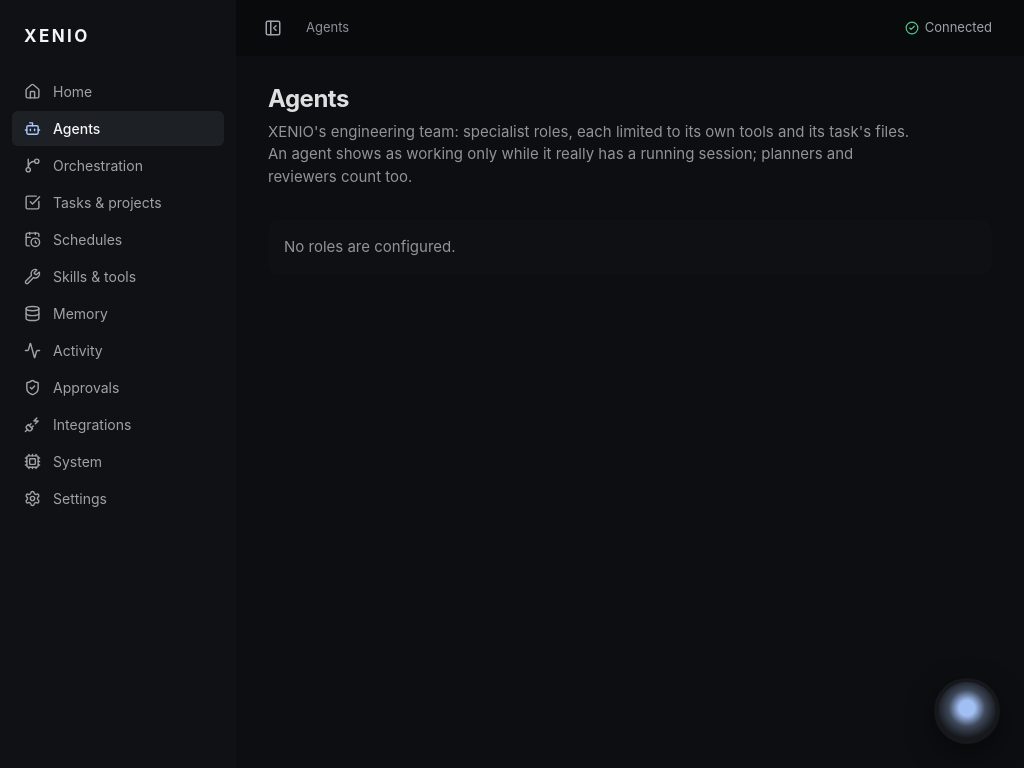
Scenario: accessibility › opens the assistant from the orb, closes on Escape and gives focus back
Click the button named "Open XENIO" at (967, 711), box [934,678,1000,744]
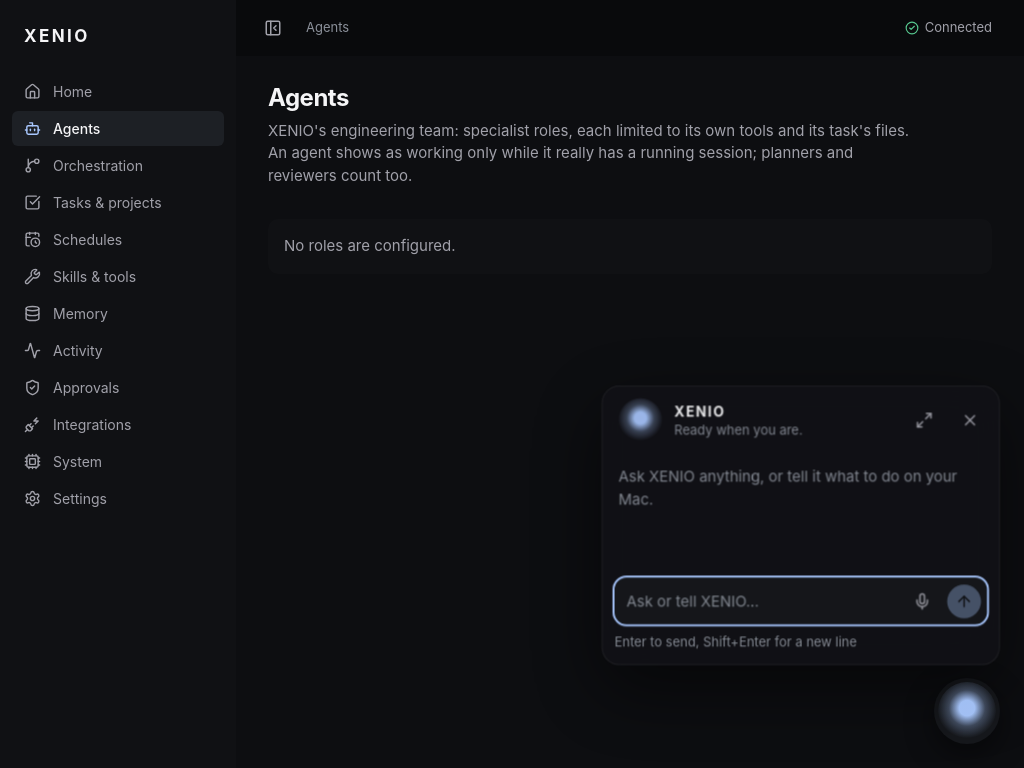
Press Escape
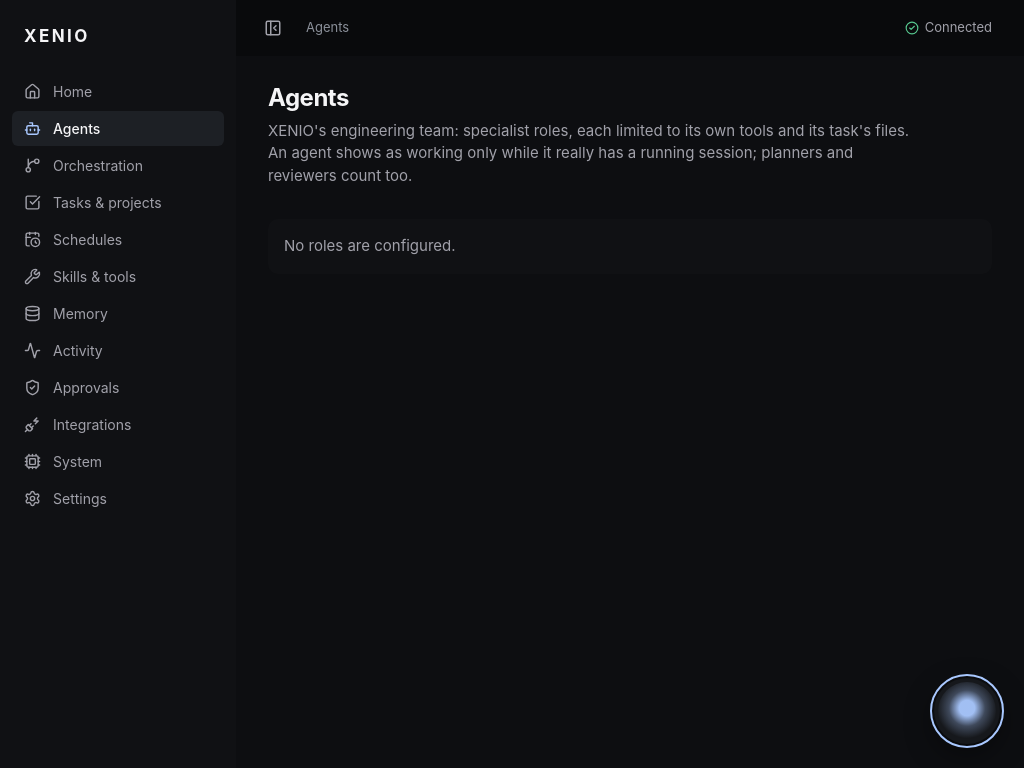
Now the button named "Open XENIO" is collapsed, box [934,678,1000,744]
